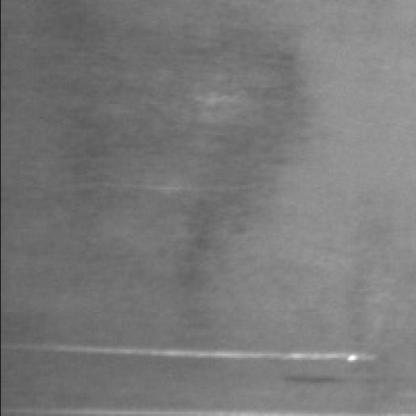scratches: (54, 337, 385, 368)
